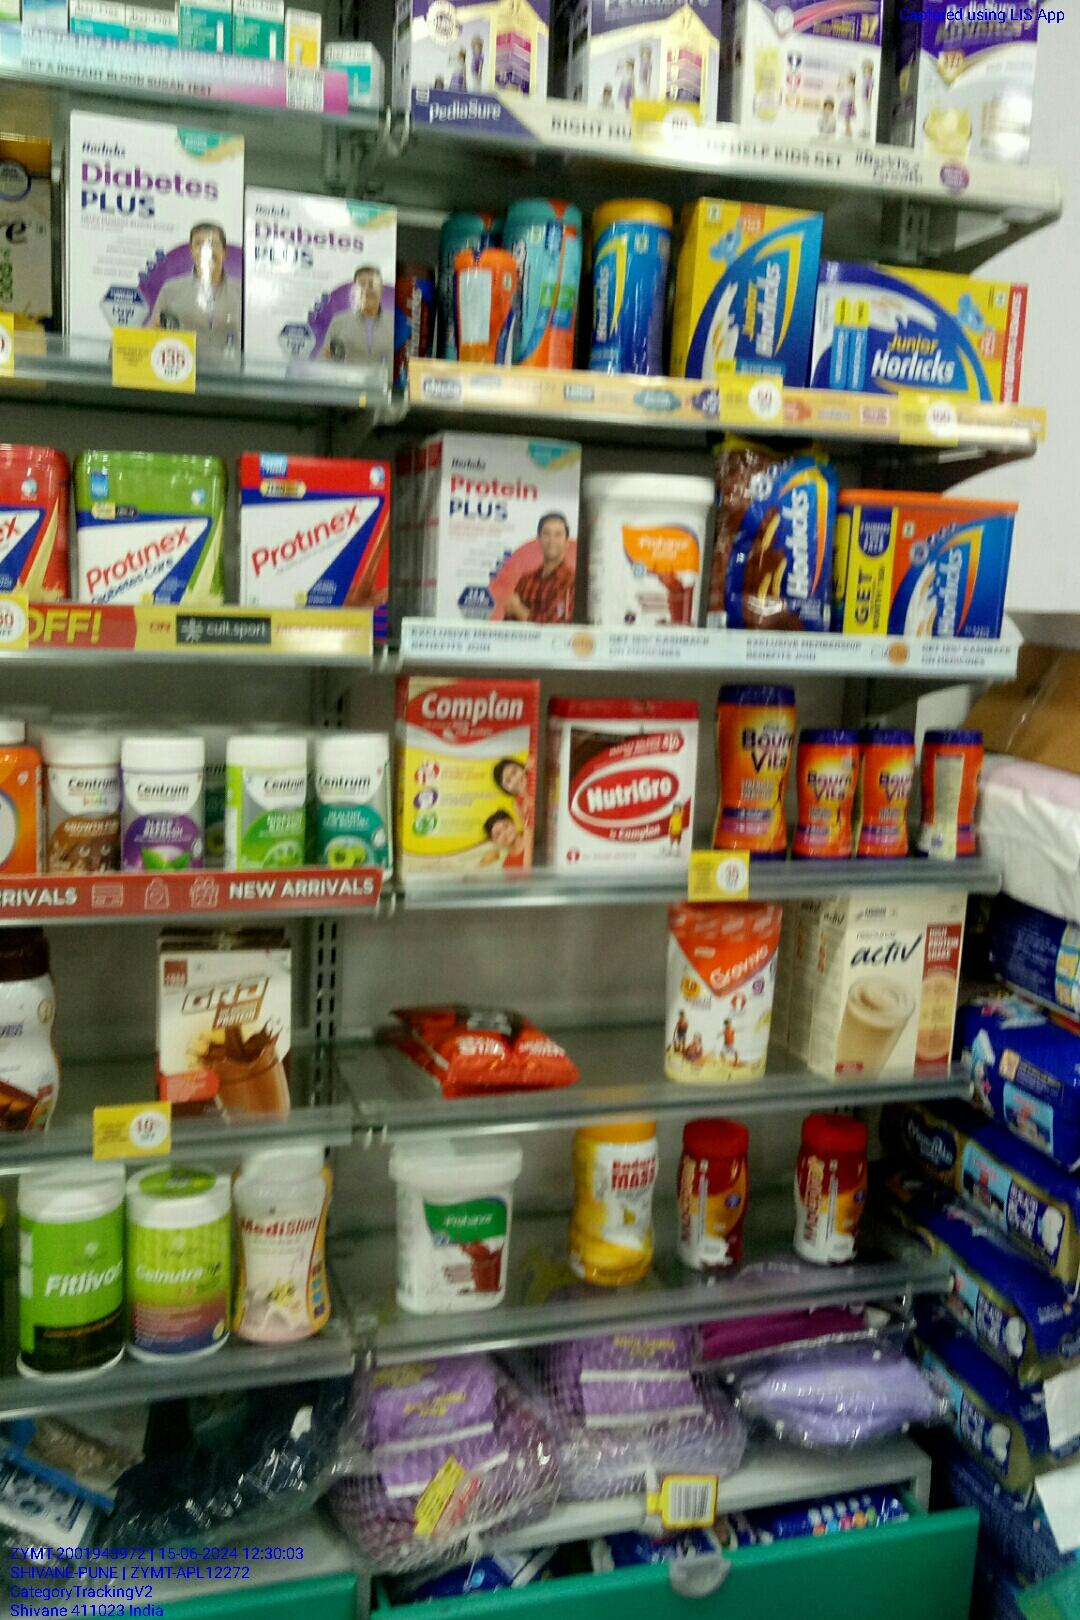BOURN_VITA_200_G_JAR: (799, 723, 852, 858), (857, 727, 911, 857)
BOURN_VITA_500_G_JAR: (714, 681, 792, 855)
COMPLAN_KESAR_BADAM_500_GMS_PACK: (401, 677, 535, 875)
HORLICKS_JUNIOR_VANILLA_500_GM_JAR: (586, 192, 669, 381)
HORLICK_MALT_1_KG_CONTAINER: (839, 491, 1002, 633)
